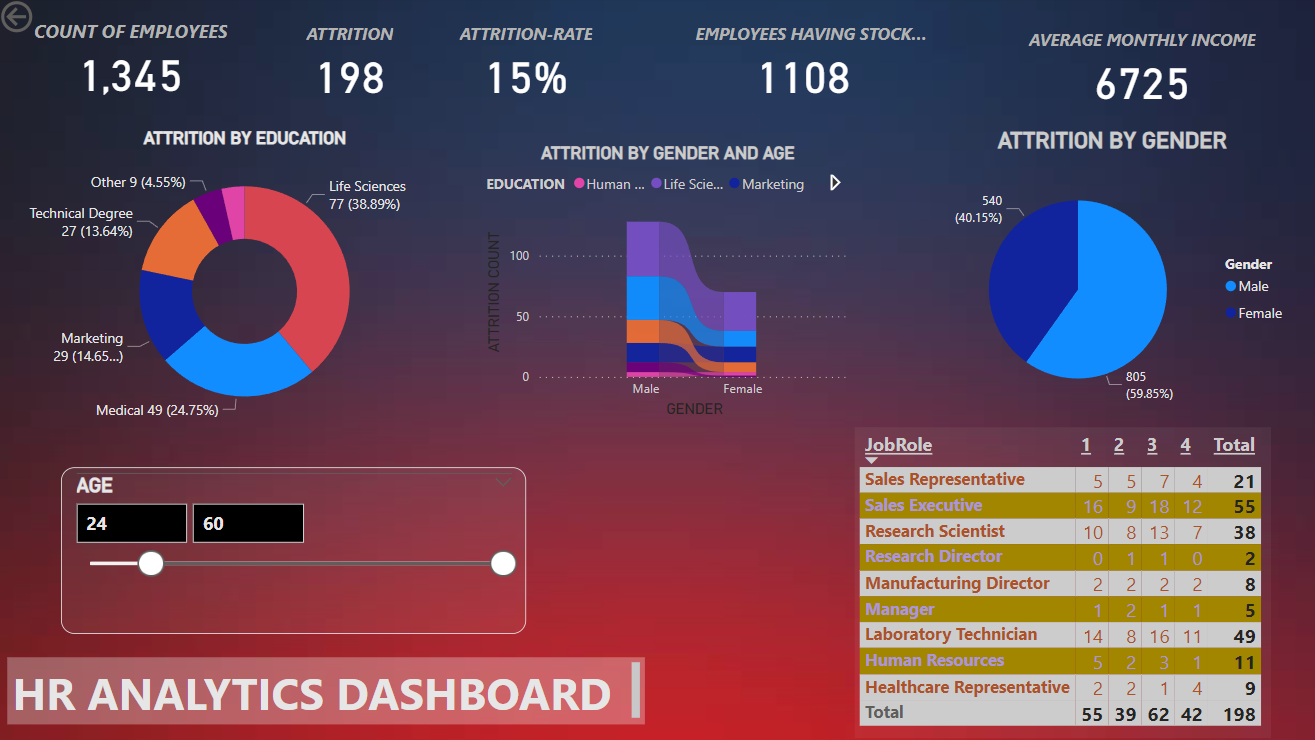

The dashboard page shown, as its layout file describes it:
{"tool":"powerbi","page":{"name":"Page 1","canvas":[1280,720],"ordinal":0},"visuals":[{"type":"cardVisual","fields":{"Data":["CountNonNull(HR_Analytics (2).EmpID)"]},"box":[0,4.8,260.5,114.6],"z":0},{"type":"cardVisual","fields":{"Data":["Avg(HR_Analytics (2).MonthlyIncome)"]},"box":[941.9,6,328,114.6],"z":1000},{"type":"cardVisual","fields":{"Data":["Sum(HR_Analytics (2).StockOptionLevel)"]},"box":[625.9,1.2,306.3,125.4],"z":2000},{"type":"cardVisual","fields":{"Data":["Sum(HR_Analytics (2).Attrition_Count)"]},"box":[273.8,6,135.1,115.8],"z":3000},{"type":"cardVisual","fields":{"Data":["HR_Analytics (2).AttritionRate"]},"box":[423.3,6,176.1,115.8],"z":4000},{"type":"donutChart","title":"ATTRITION BY EDUCATION","fields":{"Category":["HR_Analytics (2).EducationField"],"Y":["Sum(HR_Analytics (2).Attrition_Count)"]},"box":[10.9,126.6,458.3,297.9],"z":5000},{"type":"slicer","fields":{"Values":["HR_Analytics (2).Age"]},"box":[62.7,454.7,448.6,160.4],"z":6000},{"type":"actionButton","box":[0,0,100,40],"z":7000},{"type":"textbox","box":[10.9,638,615.1,65.1],"z":8000},{"type":"pieChart","title":"ATTRITION BY GENDER","fields":{"Y":["CountNonNull(HR_Analytics (2).Attrition)"],"Category":["HR_Analytics (2).Gender"]},"box":[897.3,126.6,359.4,289.4],"z":9000},{"type":"pivotTable","fields":{"Rows":["HR_Analytics (2).JobRole"],"Columns":["HR_Analytics (2).JobSatisfaction"],"Values":["Sum(HR_Analytics (2).Attrition_Count)"]},"box":[828.5,416.1,401.6,300.3],"z":10000},{"type":"ribbonChart","fields":{"Series":["HR_Analytics (2).EducationField"],"Category":["HR_Analytics (2).Gender"],"Y":["Sum(HR_Analytics (2).Attrition_Count)"]},"box":[467.9,141.1,360.6,270.2],"z":10001}]}

Visuals, with their boxes in screenshot pixels (x1, y1, x2, y2), scaled from the page's 1280x720 canvas onto the 1315x740 screenshot:
cardVisual - CountNonNull(HR_Analytics (2).EmpID): <bbox>0, 5, 268, 123</bbox>
cardVisual - Avg(HR_Analytics (2).MonthlyIncome): <bbox>968, 6, 1305, 124</bbox>
cardVisual - Sum(HR_Analytics (2).StockOptionLevel): <bbox>643, 1, 958, 130</bbox>
cardVisual - Sum(HR_Analytics (2).Attrition_Count): <bbox>281, 6, 420, 125</bbox>
cardVisual - HR_Analytics (2).AttritionRate: <bbox>435, 6, 616, 125</bbox>
"ATTRITION BY EDUCATION" donutChart: <bbox>11, 130, 482, 436</bbox>
slicer - HR_Analytics (2).Age: <bbox>64, 467, 525, 632</bbox>
actionButton: <bbox>0, 0, 103, 41</bbox>
textbox: <bbox>11, 656, 643, 723</bbox>
"ATTRITION BY GENDER" pieChart: <bbox>922, 130, 1291, 428</bbox>
pivotTable - HR_Analytics (2).JobRole x HR_Analytics (2).JobSatisfaction: <bbox>851, 428, 1264, 736</bbox>
ribbonChart - HR_Analytics (2).EducationField x HR_Analytics (2).Gender: <bbox>481, 145, 851, 423</bbox>
